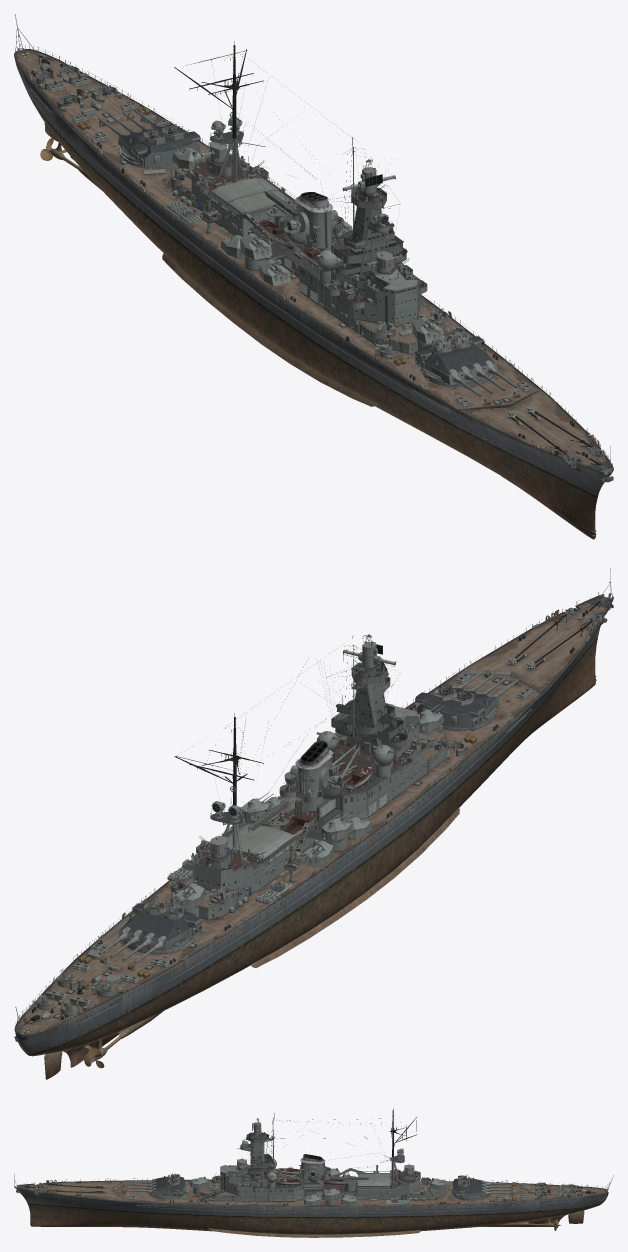
File: the_third_reich_navy_large_cruiser_beowulf-maximum-compressed.glb
The picture shows the model from 3 angles, top to bottom: view 1: azimuth 30°, elevation 25°; view 2: azimuth 150°, elevation 25°; view 3: azimuth 270°, elevation 25°; orthographic projection. The views are drawn at different scales.
Parts seen in each view (by area): view 1: HP_MidFront_F50E5A95_A3EE_4D83_8696_E25C0376CBB8_0, HP_MidBack_04D3D06A_DD6D_47E8_B79F_E16DCDB55F2E_0, HP_Bow_2FE78767_DD5E_475F_AED5_0EF31818E1EC_0, HP_MidFront_47E9B9F3_CCA1_409D_A5F5_29A5F9672316_0, HP_MidBack_1A1B7B35_46CA_4BC1_9CEB_519A07E69619_0, HP_MidFront_5C7A9F79_CC67_45E1_B566_39E1E6B095AB_0, HP_Stern_746C2E98_4C8A_4BAD_971F_452A5E7B6121_0, HP_GGM_1_342FA027_EF7D_47E0_9E1E_85BEFD04E80F_0, HP_GGM_002_342FA027_EF7D_47E0_9E1E_85BEFD04E80F_0, HP_MidFront_2BB5DA1A_A76E_4E78_AADC_47C8609DAF8A_0; view 2: HP_MidFront_F50E5A95_A3EE_4D83_8696_E25C0376CBB8_0, HP_MidBack_04D3D06A_DD6D_47E8_B79F_E16DCDB55F2E_0, HP_MidFront_47E9B9F3_CCA1_409D_A5F5_29A5F9672316_0, HP_Bow_2FE78767_DD5E_475F_AED5_0EF31818E1EC_0, HP_Stern_746C2E98_4C8A_4BAD_971F_452A5E7B6121_0, HP_MidBack_1A1B7B35_46CA_4BC1_9CEB_519A07E69619_0, HP_MidFront_5C7A9F79_CC67_45E1_B566_39E1E6B095AB_0, HP_GGM_002_342FA027_EF7D_47E0_9E1E_85BEFD04E80F_0, HP_GGM_1_342FA027_EF7D_47E0_9E1E_85BEFD04E80F_0, HP_MidFront_2BB5DA1A_A76E_4E78_AADC_47C8609DAF8A_0; view 3: HP_MidFront_F50E5A95_A3EE_4D83_8696_E25C0376CBB8_0, HP_MidBack_04D3D06A_DD6D_47E8_B79F_E16DCDB55F2E_0, HP_Bow_2FE78767_DD5E_475F_AED5_0EF31818E1EC_0, HP_MidFront_47E9B9F3_CCA1_409D_A5F5_29A5F9672316_0, HP_Stern_746C2E98_4C8A_4BAD_971F_452A5E7B6121_0, HP_MidBack_1A1B7B35_46CA_4BC1_9CEB_519A07E69619_0, HP_MidFront_5C7A9F79_CC67_45E1_B566_39E1E6B095AB_0, HP_GGM_002_342FA027_EF7D_47E0_9E1E_85BEFD04E80F_0, HP_GGM_1_342FA027_EF7D_47E0_9E1E_85BEFD04E80F_0, HP_MidBack_569A47C6_6790_49EA_A07D_B3AA4FF9DC99_0.
Boxes of the visible parts, box(x1,y1,x2,y2) form: HP_MidFront_F50E5A95_A3EE_4D83_8696_E25C0376CBB8_0: box(203, 213, 551, 474); HP_MidBack_04D3D06A_DD6D_47E8_B79F_E16DCDB55F2E_0: box(55, 94, 293, 300); HP_Bow_2FE78767_DD5E_475F_AED5_0EF31818E1EC_0: box(471, 398, 613, 539); HP_MidFront_47E9B9F3_CCA1_409D_A5F5_29A5F9672316_0: box(249, 192, 447, 354); HP_MidBack_1A1B7B35_46CA_4BC1_9CEB_519A07E69619_0: box(170, 41, 296, 236); HP_MidFront_5C7A9F79_CC67_45E1_B566_39E1E6B095AB_0: box(329, 137, 407, 279); HP_Stern_746C2E98_4C8A_4BAD_971F_452A5E7B6121_0: box(14, 14, 120, 160); HP_GGM_1_342FA027_EF7D_47E0_9E1E_85BEFD04E80F_0: box(417, 343, 517, 397); HP_GGM_002_342FA027_EF7D_47E0_9E1E_85BEFD04E80F_0: box(98, 109, 199, 167); HP_MidFront_2BB5DA1A_A76E_4E78_AADC_47C8609DAF8A_0: box(225, 59, 550, 416); HP_MidFront_F50E5A95_A3EE_4D83_8696_E25C0376CBB8_0: box(261, 664, 552, 938); HP_MidBack_04D3D06A_DD6D_47E8_B79F_E16DCDB55F2E_0: box(56, 812, 324, 1049); HP_MidFront_47E9B9F3_CCA1_409D_A5F5_29A5F9672316_0: box(279, 706, 448, 853); HP_Bow_2FE78767_DD5E_475F_AED5_0EF31818E1EC_0: box(472, 568, 613, 740); HP_Stern_746C2E98_4C8A_4BAD_971F_452A5E7B6121_0: box(14, 973, 122, 1079); HP_MidBack_1A1B7B35_46CA_4BC1_9CEB_519A07E69619_0: box(170, 713, 299, 919); HP_MidFront_5C7A9F79_CC67_45E1_B566_39E1E6B095AB_0: box(331, 635, 407, 754); HP_GGM_002_342FA027_EF7D_47E0_9E1E_85BEFD04E80F_0: box(98, 906, 196, 963); HP_GGM_1_342FA027_EF7D_47E0_9E1E_85BEFD04E80F_0: box(417, 670, 518, 728); HP_MidFront_2BB5DA1A_A76E_4E78_AADC_47C8609DAF8A_0: box(226, 661, 550, 856); HP_MidFront_F50E5A95_A3EE_4D83_8696_E25C0376CBB8_0: box(114, 1165, 369, 1237); HP_MidBack_04D3D06A_DD6D_47E8_B79F_E16DCDB55F2E_0: box(356, 1158, 543, 1236); HP_Bow_2FE78767_DD5E_475F_AED5_0EF31818E1EC_0: box(14, 1174, 113, 1226); HP_MidFront_47E9B9F3_CCA1_409D_A5F5_29A5F9672316_0: box(198, 1154, 357, 1201); HP_Stern_746C2E98_4C8A_4BAD_971F_452A5E7B6121_0: box(537, 1175, 613, 1226); HP_MidBack_1A1B7B35_46CA_4BC1_9CEB_519A07E69619_0: box(357, 1108, 438, 1200); HP_MidFront_5C7A9F79_CC67_45E1_B566_39E1E6B095AB_0: box(238, 1113, 274, 1178); HP_GGM_002_342FA027_EF7D_47E0_9E1E_85BEFD04E80F_0: box(452, 1177, 511, 1197); HP_GGM_1_342FA027_EF7D_47E0_9E1E_85BEFD04E80F_0: box(126, 1176, 185, 1195); HP_MidBack_569A47C6_6790_49EA_A07D_B3AA4FF9DC99_0: box(356, 1127, 533, 1205).
Size of the model in its own units: 0.016 by 0.0323 by 0.1483.
Materials: 60 (58 with a texture image).
